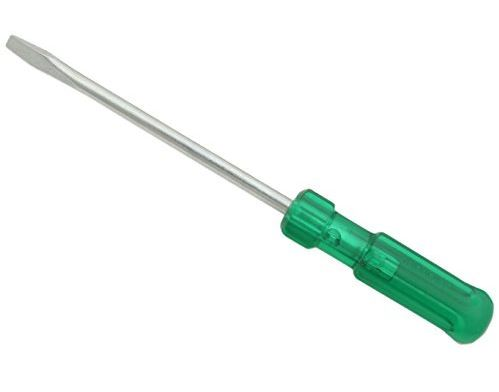screwdriver: (3, 34, 495, 344)
